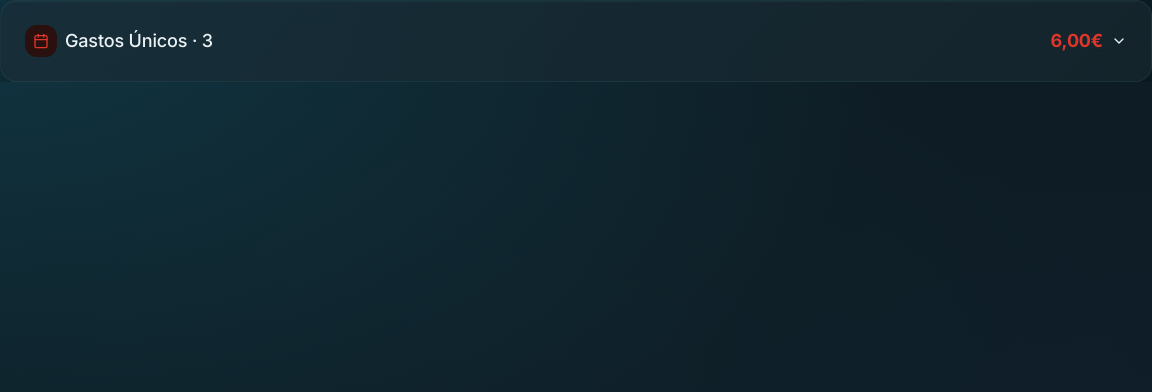
selección y borrado de gastos › quitar selección vacía los ids sin borrar gastos
Click the button "Gastos Únicos · 3 6,00€": (41, 41) [13,13,1139,69]
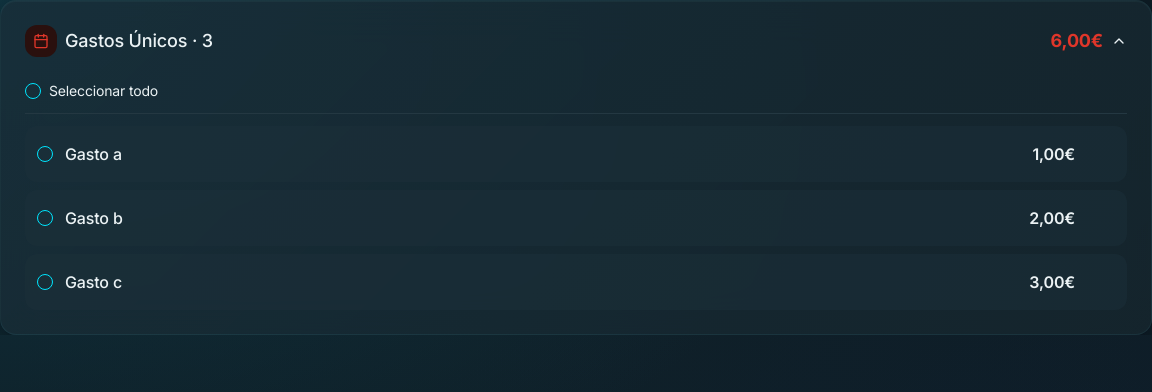
Click the checkbox named "Seleccionar todo": (33, 91) [25,83,41,99]
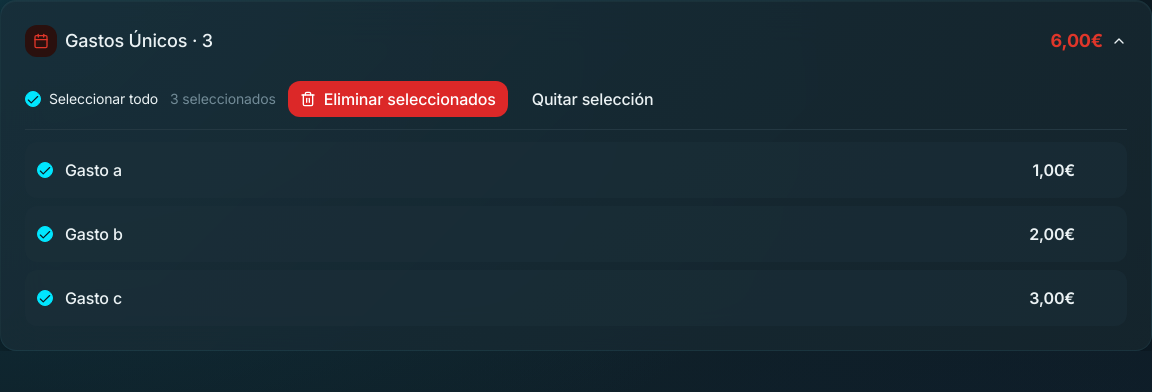
Click the button "Quitar selección": (593, 99) [520,81,666,117]
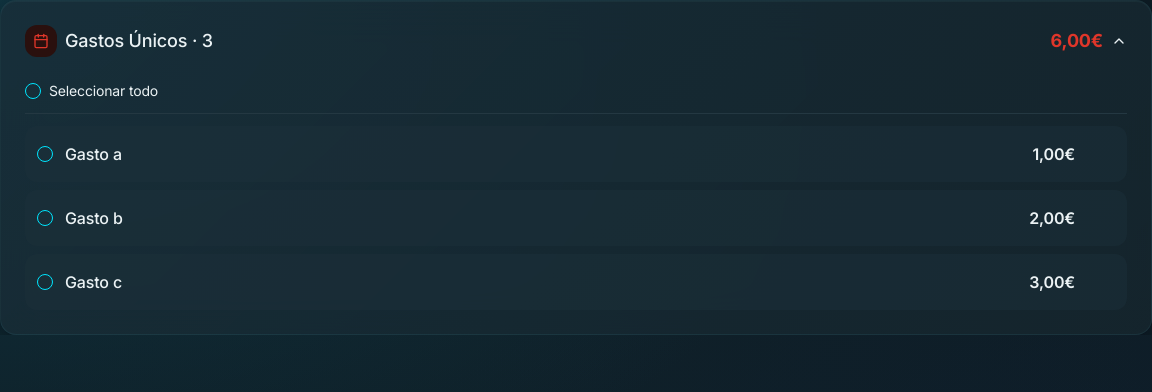
Check: the checkbox named "Seleccionar Gasto a" is not checked, box [37,146,53,162]
Check: the checkbox named "Seleccionar Gasto c" is not checked, box [37,274,53,290]
